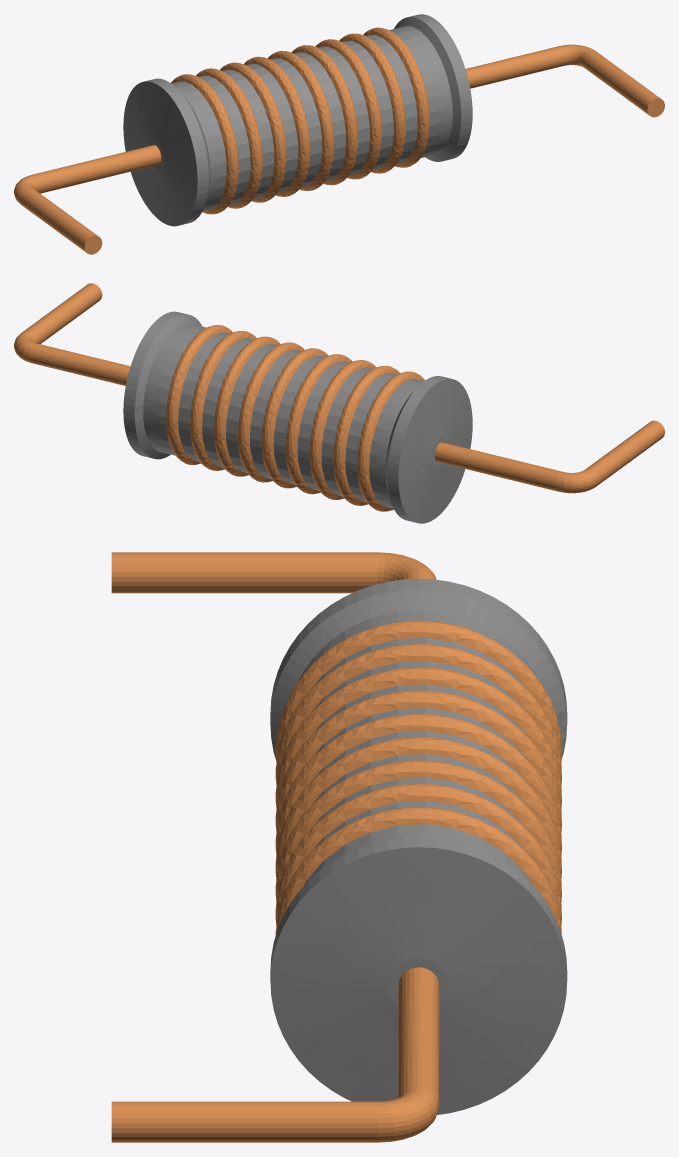
Rendered from L_Axial_L12.8mm_D5.8mm_P25.40mm_Horizontal_Fastron_HBCC.glb.
3 renders of one model, top to bottom at view 1: azimuth 30°, elevation 25°; view 2: azimuth 150°, elevation 25°; view 3: azimuth 270°, elevation 25°, orthographic. The views are drawn at different scales.
Parts seen in each view (by area): view 1: Shape_IndexedFaceSet.029, Shape_IndexedFaceSet.005, Shape_IndexedFaceSet.031, Shape_IndexedFaceSet.026, Shape_IndexedFaceSet.004, Shape_IndexedFaceSet.025, Shape_IndexedFaceSet.007, Shape_IndexedFaceSet.015, Shape_IndexedFaceSet.021, Shape_IndexedFaceSet.017, Shape_IndexedFaceSet.023, Shape_IndexedFaceSet.011 (+16 smaller); view 2: Shape_IndexedFaceSet.029, Shape_IndexedFaceSet.005, Shape_IndexedFaceSet.031, Shape_IndexedFaceSet.026, Shape_IndexedFaceSet.004, Shape_IndexedFaceSet.025, Shape_IndexedFaceSet.019, Shape_IndexedFaceSet.021, Shape_IndexedFaceSet.013, Shape_IndexedFaceSet.015, Shape_IndexedFaceSet.017, Shape_IndexedFaceSet.011 (+17 smaller); view 3: Shape_IndexedFaceSet, Shape_IndexedFaceSet.008, Shape_IndexedFaceSet.033, Shape_IndexedFaceSet.027, Shape_IndexedFaceSet.011, Shape_IndexedFaceSet.015, Shape_IndexedFaceSet.021, Shape_IndexedFaceSet.019, Shape_IndexedFaceSet.025, Shape_IndexedFaceSet.013, Shape_IndexedFaceSet.023, Shape_IndexedFaceSet.017 (+17 smaller).
Boxes of the visible parts, x1=… form: Shape_IndexedFaceSet.029: x1=123, y1=81, x2=197, y2=226; Shape_IndexedFaceSet.005: x1=389, y1=26, x2=452, y2=157; Shape_IndexedFaceSet.031: x1=33, y1=145, x2=161, y2=193; Shape_IndexedFaceSet.026: x1=171, y1=81, x2=226, y2=210; Shape_IndexedFaceSet.004: x1=465, y1=46, x2=566, y2=88; Shape_IndexedFaceSet.025: x1=171, y1=74, x2=238, y2=214; Shape_IndexedFaceSet.007: x1=363, y1=27, x2=429, y2=167; Shape_IndexedFaceSet.015: x1=291, y1=45, x2=358, y2=185; Shape_IndexedFaceSet.021: x1=220, y1=62, x2=286, y2=202; Shape_IndexedFaceSet.017: x1=267, y1=51, x2=334, y2=190; Shape_IndexedFaceSet.023: x1=196, y1=68, x2=262, y2=208; Shape_IndexedFaceSet.011: x1=339, y1=33, x2=405, y2=173; Shape_IndexedFaceSet.029: x1=398, y1=378, x2=472, y2=523; Shape_IndexedFaceSet.005: x1=143, y1=323, x2=206, y2=455; Shape_IndexedFaceSet.031: x1=434, y1=442, x2=562, y2=491; Shape_IndexedFaceSet.026: x1=369, y1=378, x2=424, y2=508; Shape_IndexedFaceSet.004: x1=29, y1=343, x2=130, y2=385; Shape_IndexedFaceSet.025: x1=357, y1=371, x2=425, y2=511; Shape_IndexedFaceSet.019: x1=285, y1=354, x2=352, y2=494; Shape_IndexedFaceSet.021: x1=309, y1=360, x2=375, y2=499; Shape_IndexedFaceSet.013: x1=214, y1=336, x2=280, y2=476; Shape_IndexedFaceSet.015: x1=237, y1=342, x2=304, y2=482; Shape_IndexedFaceSet.017: x1=261, y1=348, x2=328, y2=488; Shape_IndexedFaceSet.011: x1=190, y1=331, x2=256, y2=470; Shape_IndexedFaceSet: x1=270, y1=847, x2=567, y2=1114; Shape_IndexedFaceSet.008: x1=111, y1=1101, x2=377, y2=1142; Shape_IndexedFaceSet.033: x1=111, y1=552, x2=377, y2=593; Shape_IndexedFaceSet.027: x1=270, y1=590, x2=567, y2=760; Shape_IndexedFaceSet.011: x1=275, y1=783, x2=561, y2=926; Shape_IndexedFaceSet.015: x1=275, y1=737, x2=561, y2=879; Shape_IndexedFaceSet.021: x1=275, y1=667, x2=561, y2=808; Shape_IndexedFaceSet.019: x1=275, y1=690, x2=561, y2=831; Shape_IndexedFaceSet.025: x1=275, y1=620, x2=561, y2=761; Shape_IndexedFaceSet.013: x1=275, y1=760, x2=561, y2=901; Shape_IndexedFaceSet.023: x1=275, y1=644, x2=561, y2=785; Shape_IndexedFaceSet.017: x1=275, y1=713, x2=561, y2=854.
Bounding box in the file's own units: 10.31 × 2.28 × 3.5.
